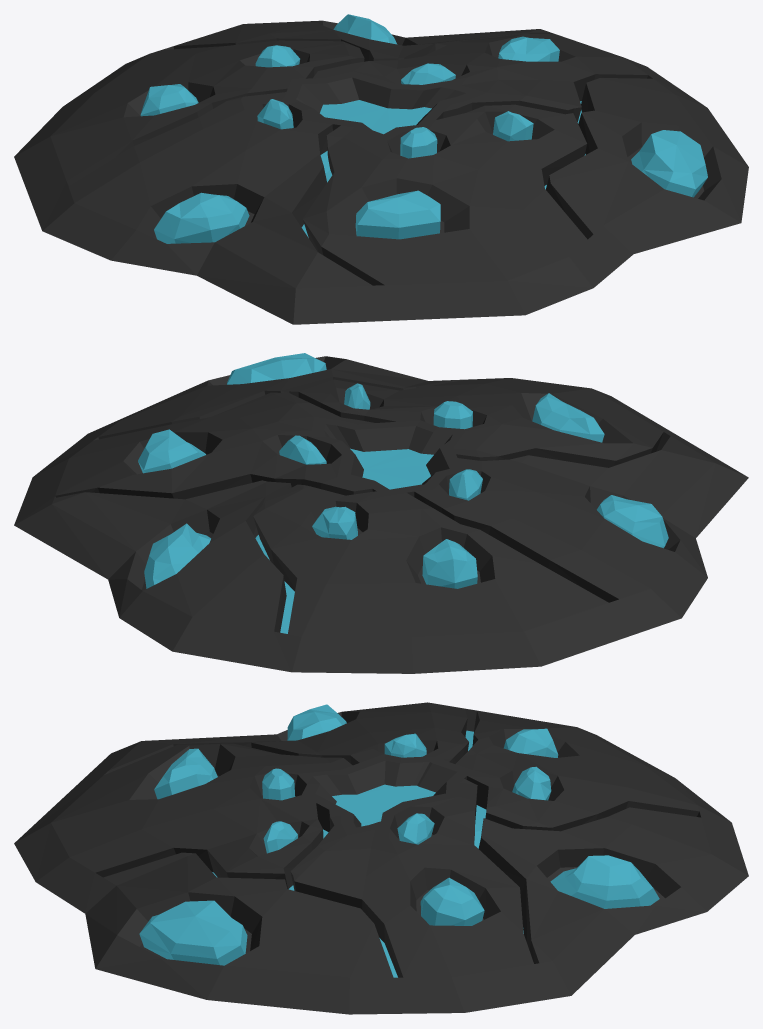
The model's file is SM_Thorium_Node.fbx.
3 views of the same model, one above another, from view 1: azimuth 30°, elevation 25°; view 2: azimuth 150°, elevation 25°; view 3: azimuth 270°, elevation 25° (orthographic).
Parts seen in each view (by area): view 1: SM_Thorium_Node_Base; view 2: SM_Thorium_Node_Base; view 3: SM_Thorium_Node_Base.
Part boxes in pixels (<box>): SM_Thorium_Node_Base: <box>14,14,748,324</box>; SM_Thorium_Node_Base: <box>14,353,748,673</box>; SM_Thorium_Node_Base: <box>14,702,748,1014</box>.
Size of the model in its own units: 188 by 23.85 by 191.
